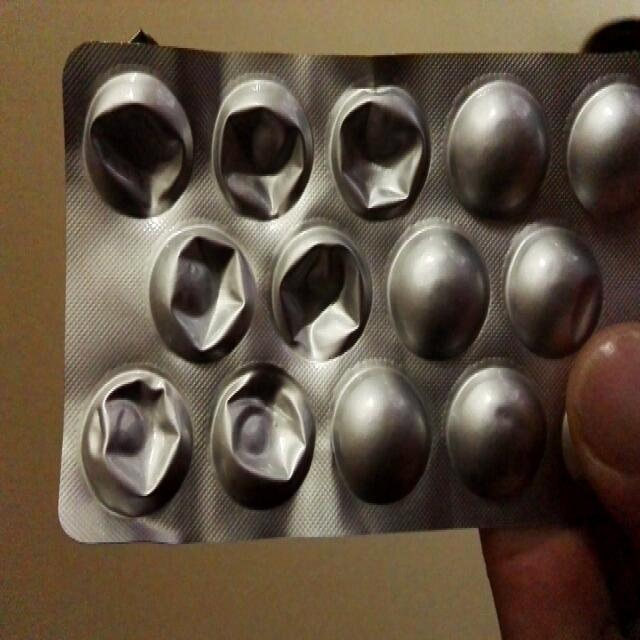Empty: (75, 359, 195, 539), (69, 59, 198, 213), (208, 361, 316, 524), (210, 78, 318, 222), (151, 217, 256, 363), (328, 73, 431, 217), (269, 224, 372, 357)
Pill: (439, 76, 558, 220), (326, 362, 434, 514), (384, 225, 499, 362), (444, 370, 555, 510), (506, 217, 606, 363), (570, 76, 640, 226)
